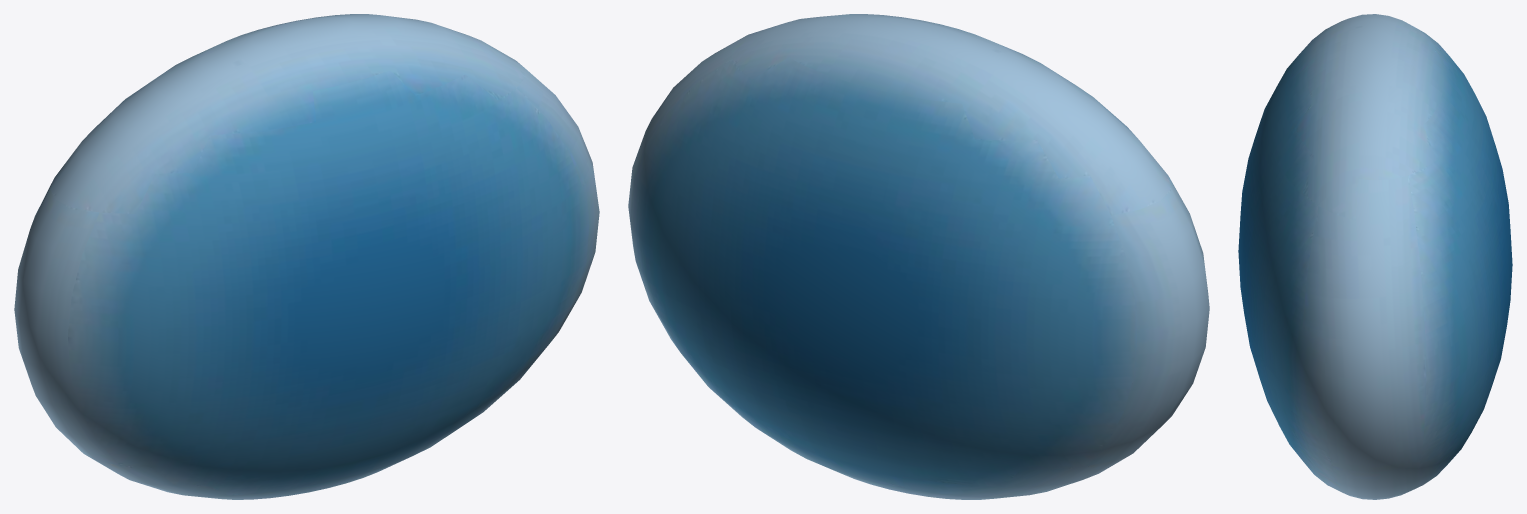
3 views of the same model, side by side, from view 1: azimuth 30°, elevation 25°; view 2: azimuth 150°, elevation 25°; view 3: azimuth 270°, elevation 25° (orthographic). The views are drawn at different scales.
Parts seen in each view (by area): view 1: Frosted_sea_blue_glass; view 2: Frosted_sea_blue_glass; view 3: Frosted_sea_blue_glass.
Part boxes in pixels (x1,y1,x2,y2): Frosted_sea_blue_glass: [14, 14, 599, 499]; Frosted_sea_blue_glass: [628, 14, 1209, 499]; Frosted_sea_blue_glass: [1238, 14, 1512, 499].
Bounding box in the file's own units: 0.91 × 0.7 × 0.42.
Materials: 2 (2 with a texture image).
